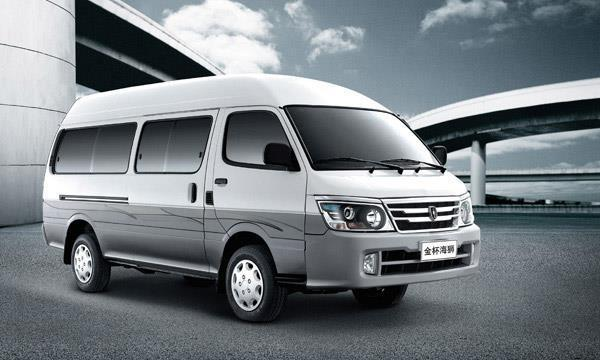Van: (41, 75, 484, 314)
